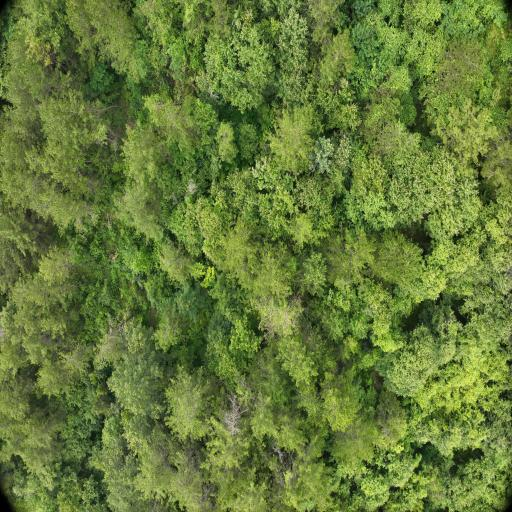dead-tree: (226, 394, 244, 438)
